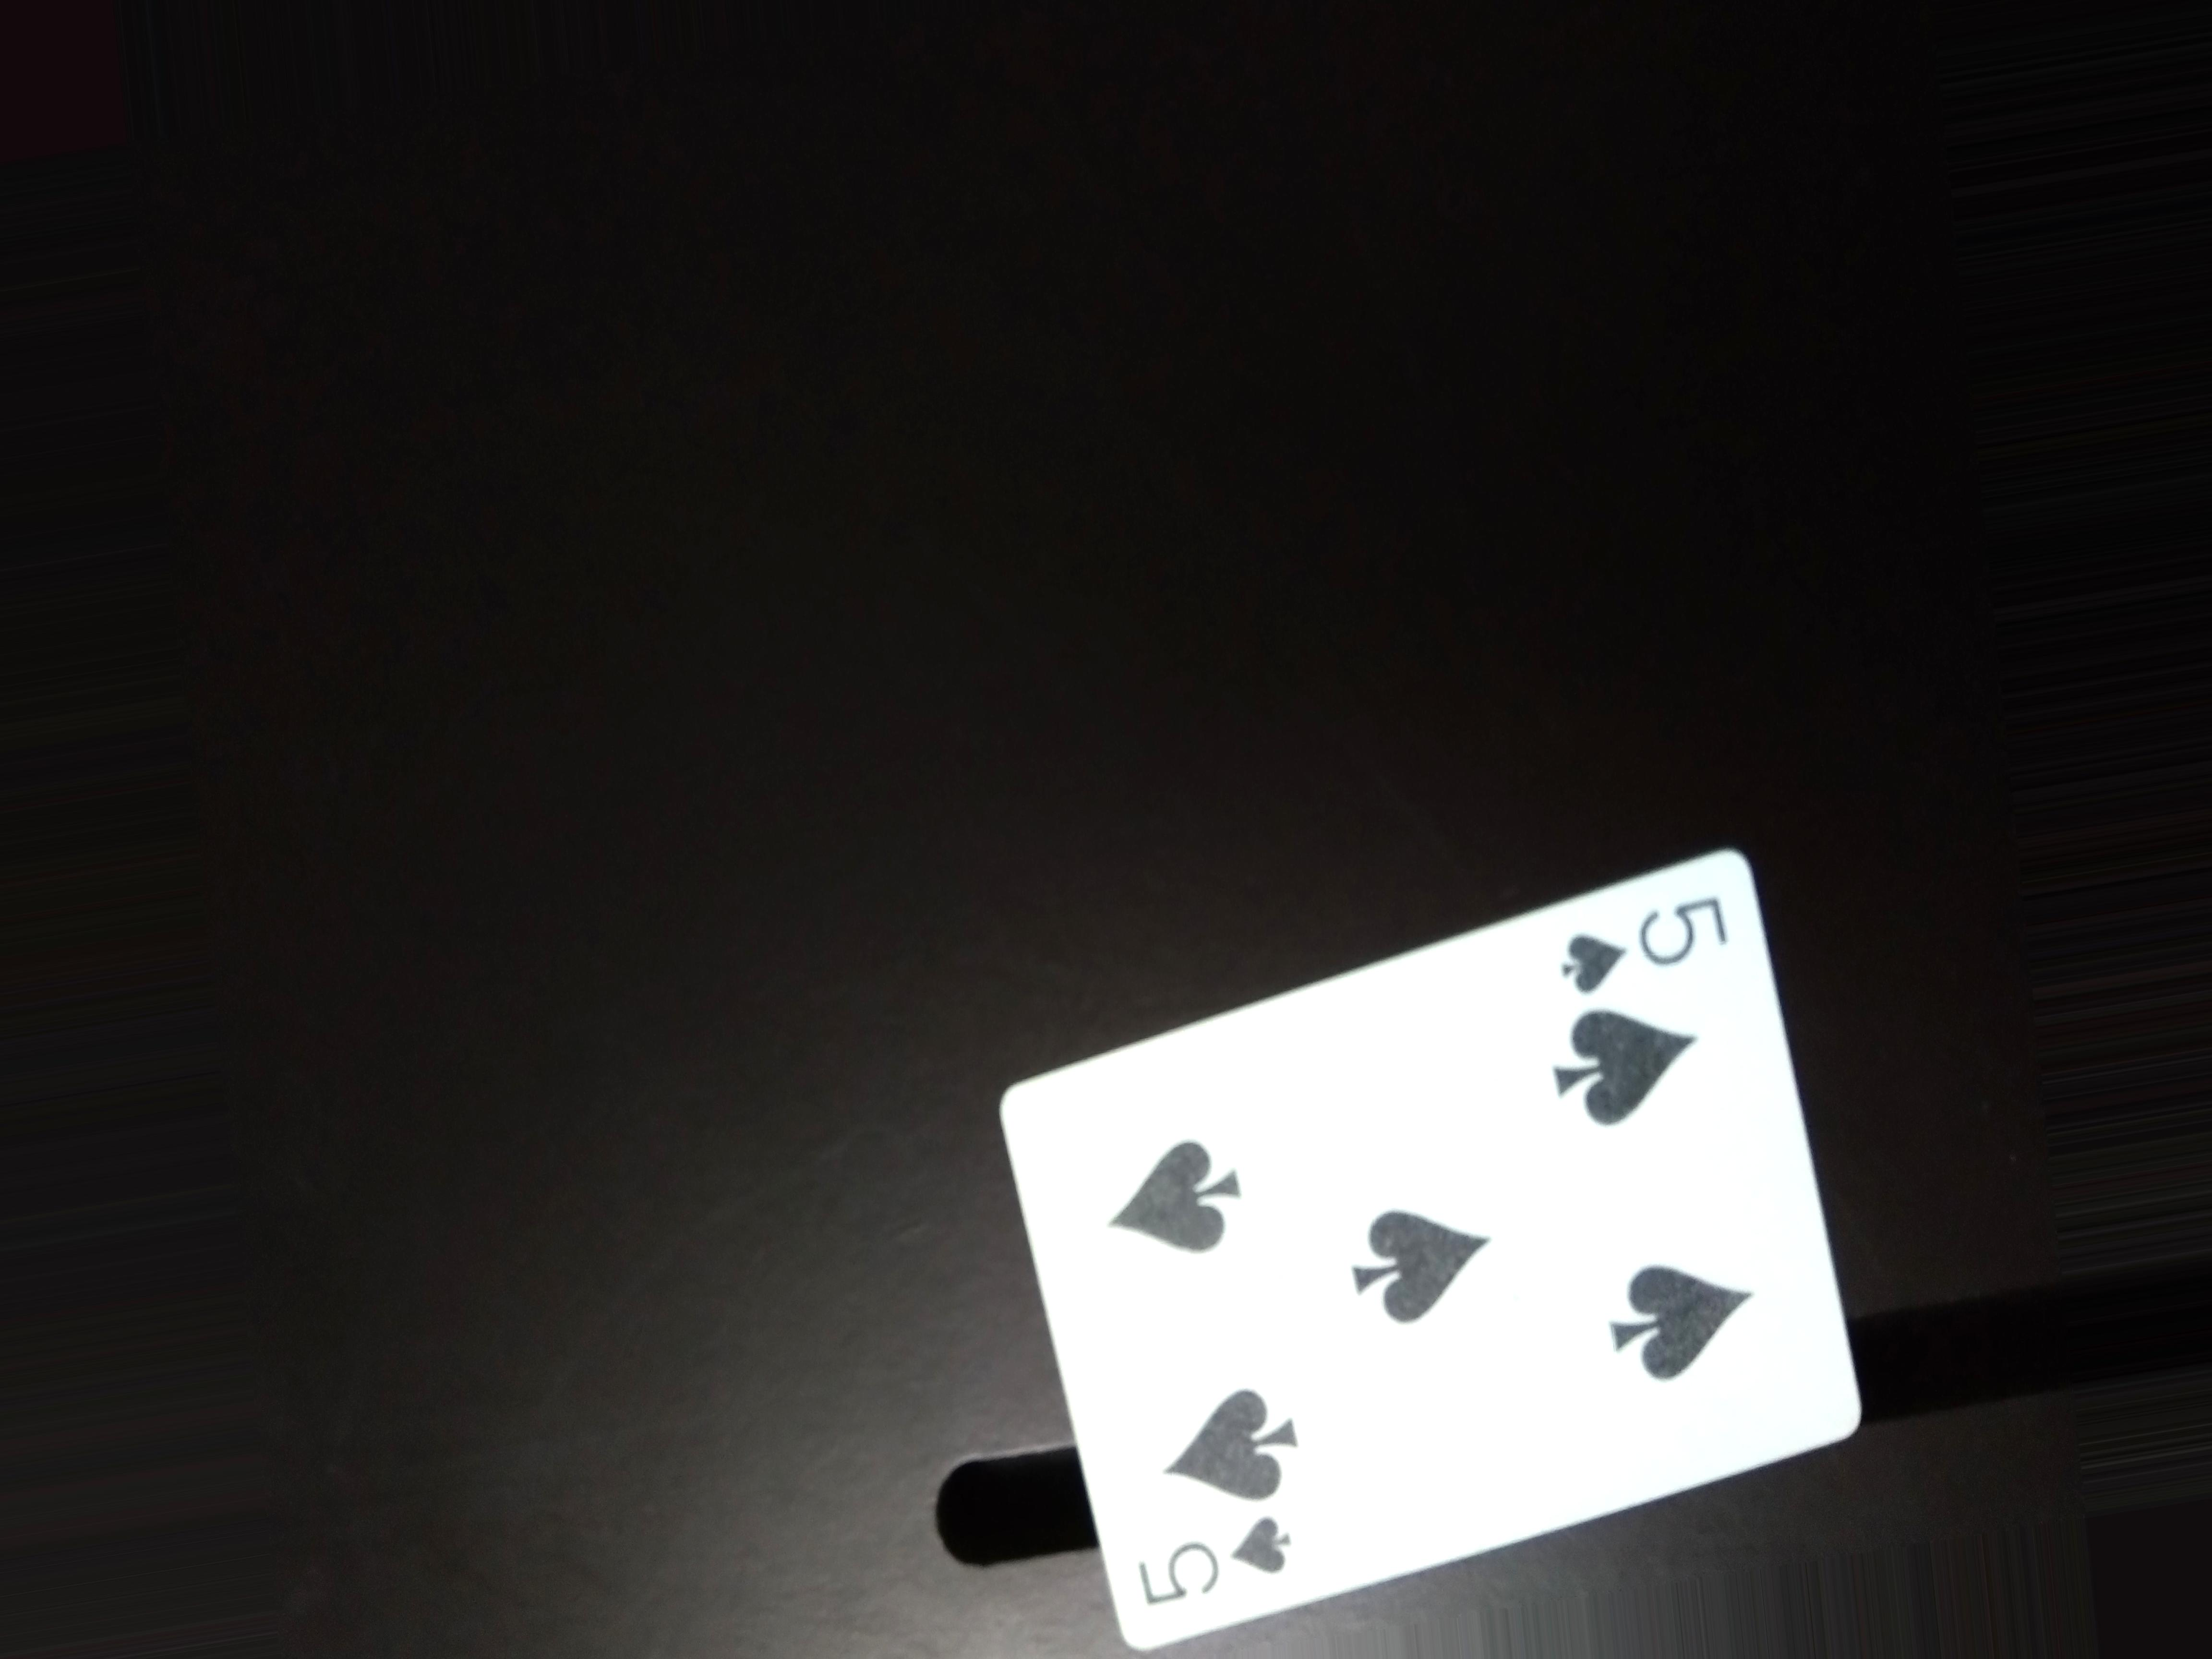5S: (1534, 887, 1738, 992)
